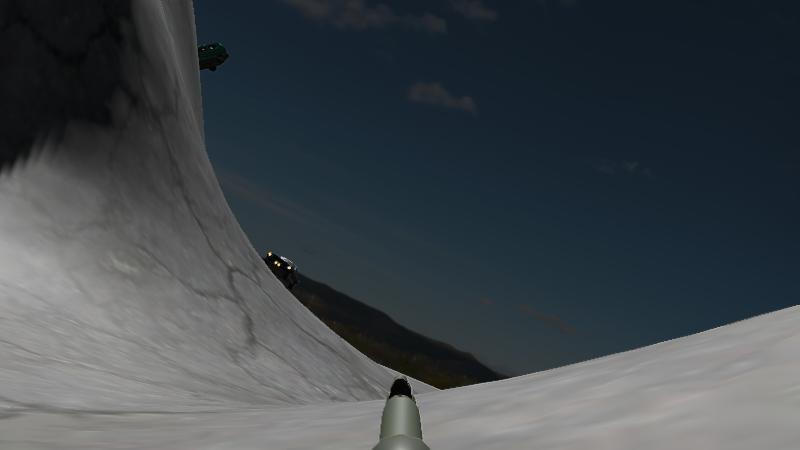car: (265, 249, 298, 289)
